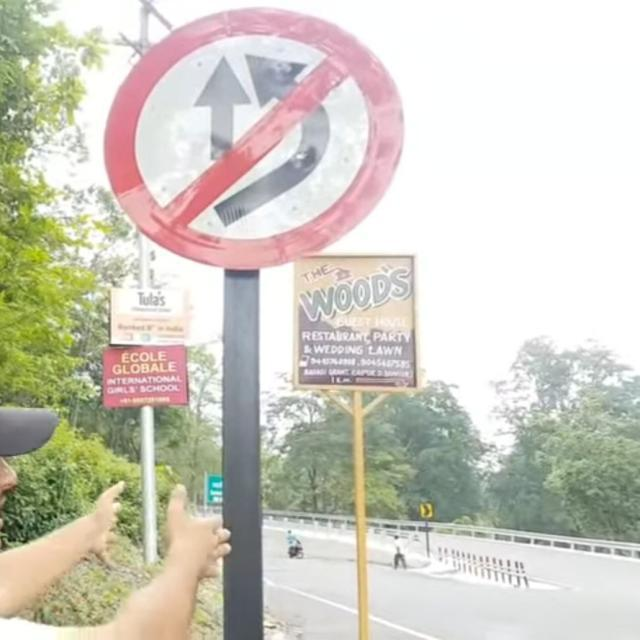overtaking prohibited: (100, 17, 402, 270)
